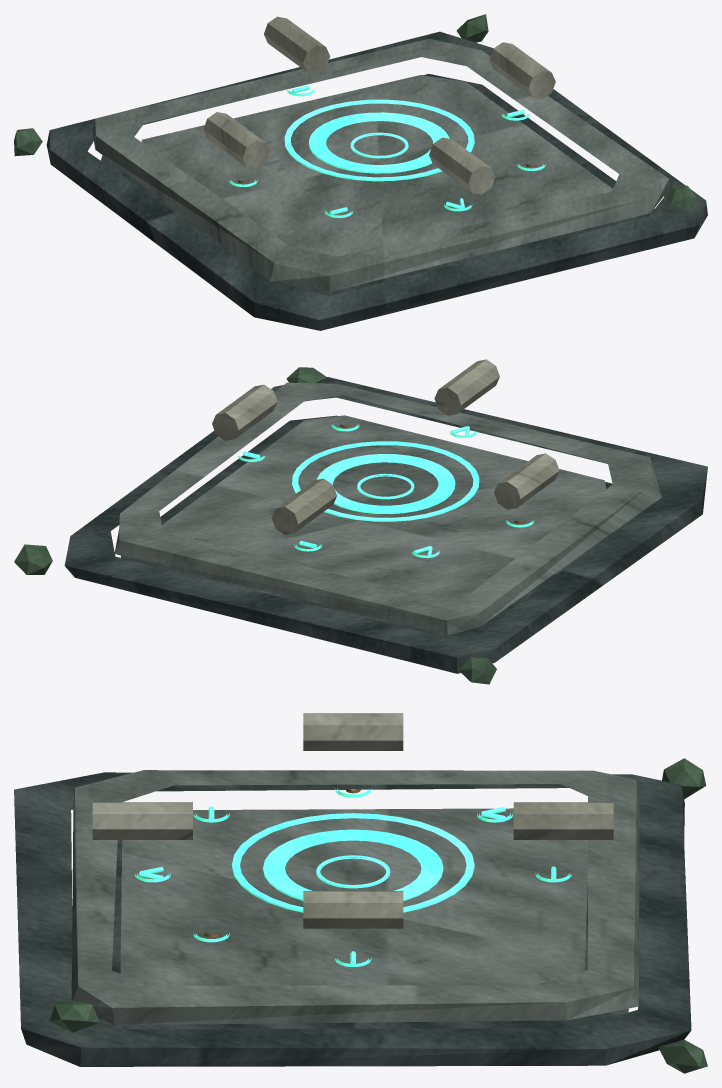
The model's file is 0555_rune_dais_05.glb.
3 renders of one model, top to bottom at view 1: azimuth 30°, elevation 25°; view 2: azimuth 150°, elevation 25°; view 3: azimuth 270°, elevation 25°, orthographic. The views are drawn at different scales.
Visible parts, largest first — view 1: stone, stone_dark, stone_light, glow, moss; view 2: stone, stone_dark, stone_light, glow, moss; view 3: stone, stone_dark, stone_light, glow, moss.
Boxes of the visible parts, x1=… form: stone: x1=92, y1=38, x2=668, y2=291; stone_dark: x1=46, y1=31, x2=707, y2=330; stone_light: x1=203, y1=16, x2=555, y2=194; glow: x1=229, y1=85, x2=545, y2=217; moss: x1=14, y1=14, x2=696, y2=210; stone: x1=114, y1=382, x2=661, y2=635; stone_dark: x1=64, y1=377, x2=707, y2=673; stone_light: x1=212, y1=359, x2=559, y2=534; glow: x1=237, y1=424, x2=533, y2=557; moss: x1=14, y1=367, x2=496, y2=684; stone: x1=71, y1=770, x2=639, y2=1025; stone_dark: x1=14, y1=772, x2=691, y2=1066; stone_light: x1=92, y1=713, x2=613, y2=928; glow: x1=135, y1=788, x2=571, y2=967; moss: x1=49, y1=758, x2=707, y2=1073.
Bounding box in the file's own units: 3.52 × 0.7196 × 3.46.
Materials: 6 (6 with a texture image).
